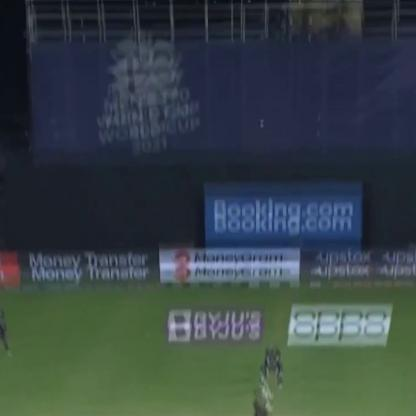ball: (259, 122, 266, 130), (259, 115, 266, 122)
